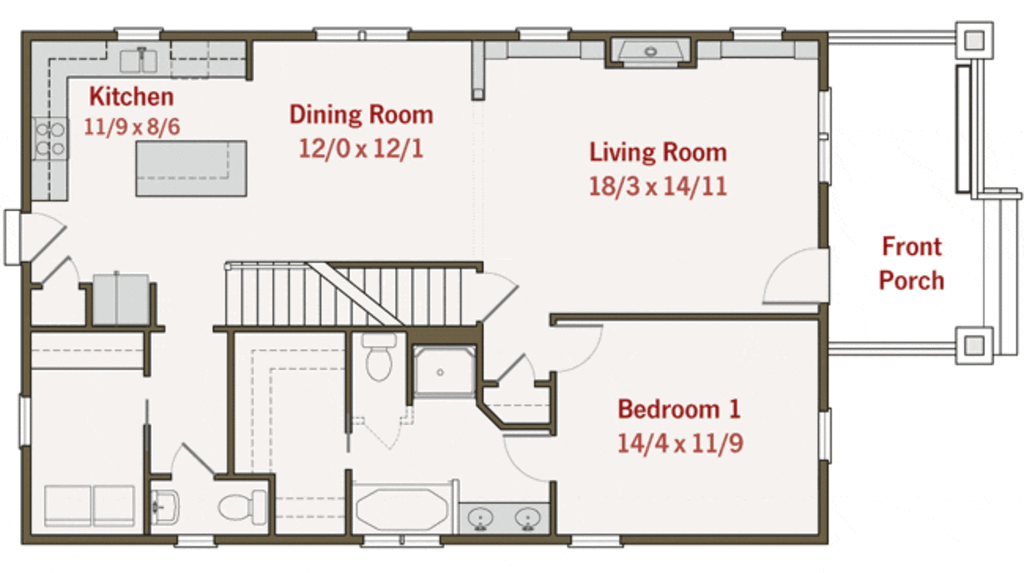door: (760, 245, 833, 301), (550, 323, 605, 376), (19, 211, 73, 262), (500, 434, 557, 480), (475, 263, 519, 322), (160, 437, 219, 481), (353, 414, 417, 450), (491, 346, 540, 387), (39, 256, 85, 288)
large_sink: (211, 486, 270, 530), (354, 329, 397, 381)
small_sink: (463, 502, 557, 531)
stairs: (214, 255, 481, 331)
tub: (350, 477, 454, 537)
twin_sink: (106, 40, 165, 78)
window: (312, 24, 416, 45), (725, 12, 784, 47), (818, 84, 835, 186), (168, 528, 233, 552), (813, 410, 838, 464), (355, 534, 449, 548), (573, 529, 641, 548), (515, 20, 568, 42)
